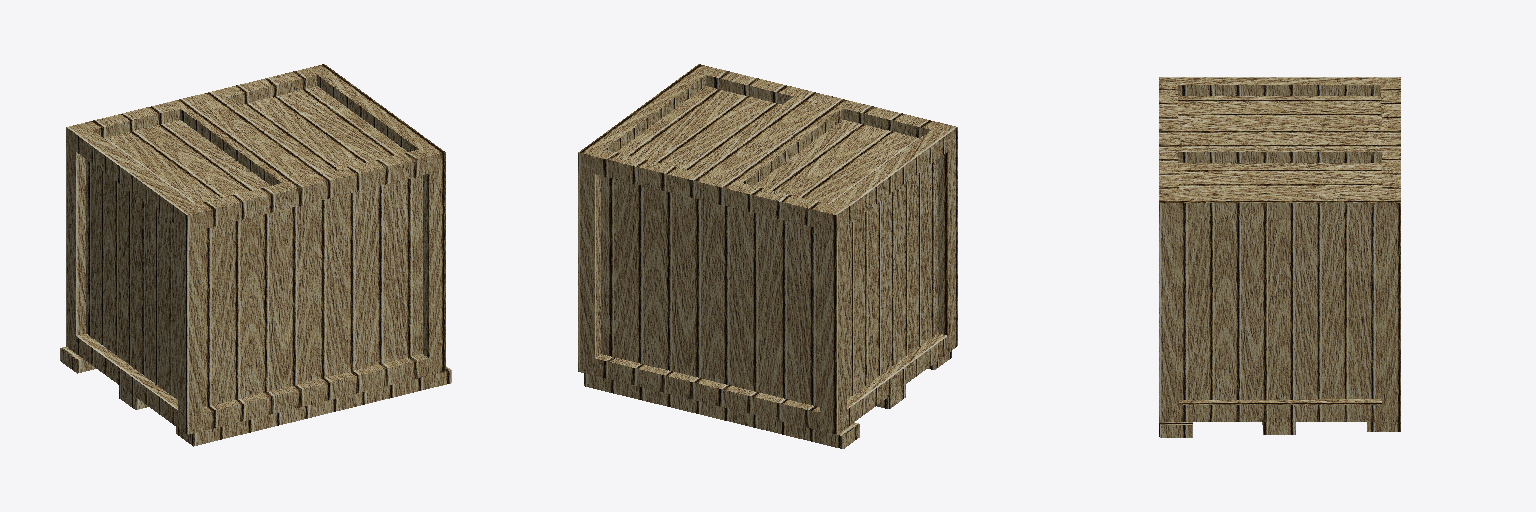
3 views of the same model, side by side, from view 1: azimuth 30°, elevation 25°; view 2: azimuth 150°, elevation 25°; view 3: azimuth 270°, elevation 25° (orthographic).
Parts seen in each view (by area): view 1: boxobj; view 2: boxobj; view 3: boxobj.
Part boxes in pixels (left/top/right/bottom): boxobj: left=60, top=64, right=451, bottom=446; boxobj: left=578, top=64, right=957, bottom=448; boxobj: left=1159, top=77, right=1400, bottom=437.
Size of the model in its own units: 64.69 by 53 by 50.1.
Materials: 1 (1 with a texture image).